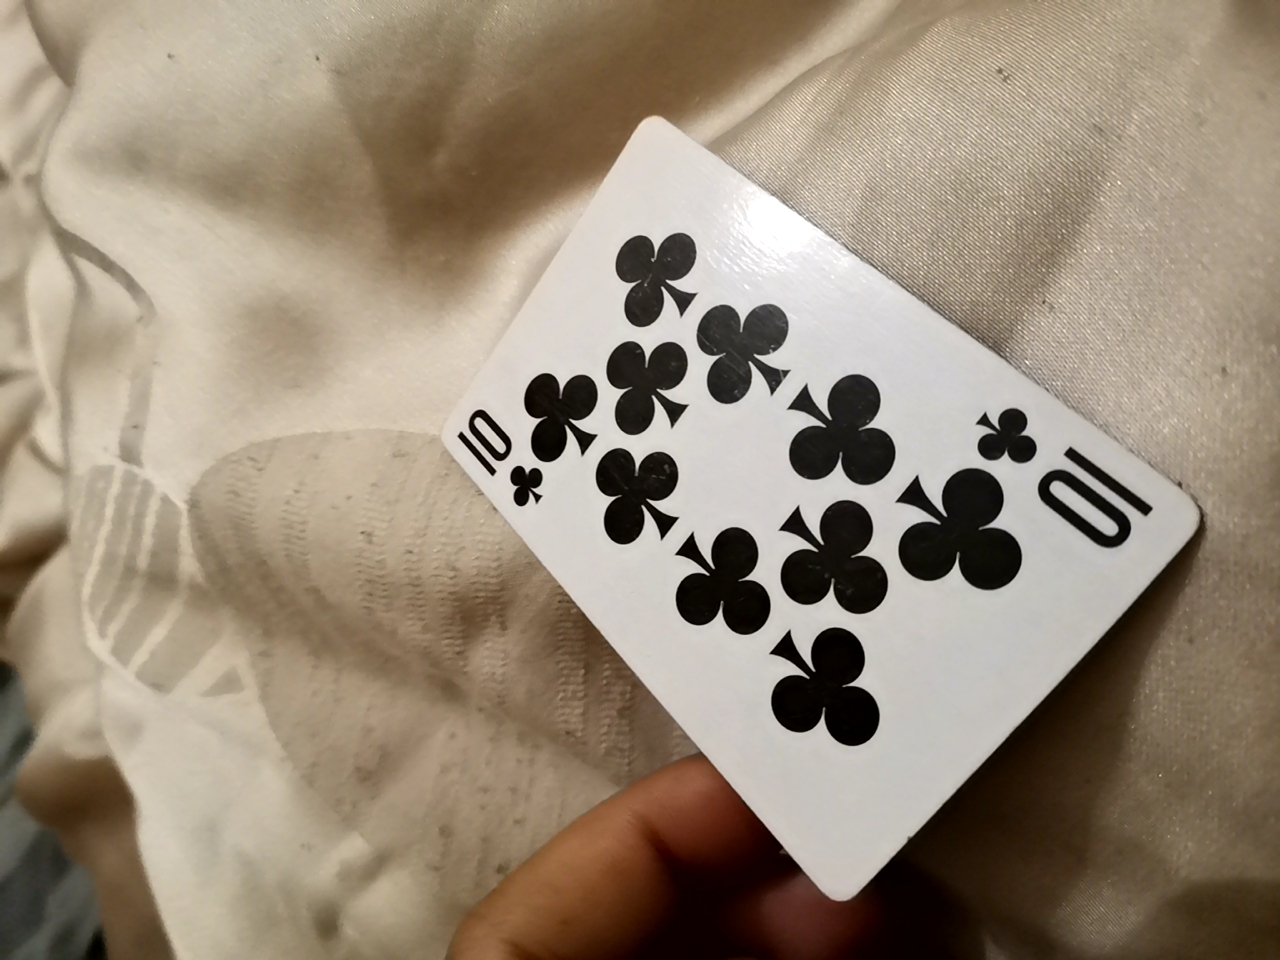mh 10: (429, 104, 1165, 921)
